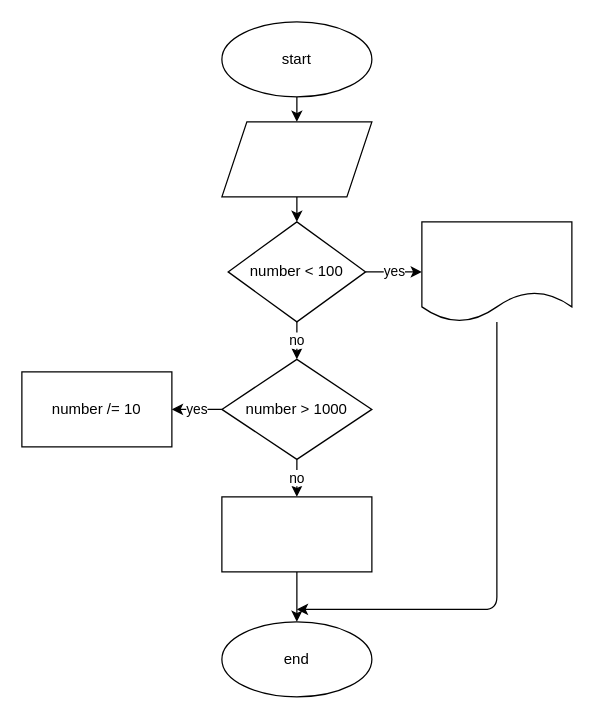
Some shapes in this 594 by 719 pixel diagram are drawn without their labels. The centre of each missing label's shape, as x and y in pixels:
number: the point at 296,159
number %= 10: the point at 296,534
Третьей цифры нет: the point at 496,271
